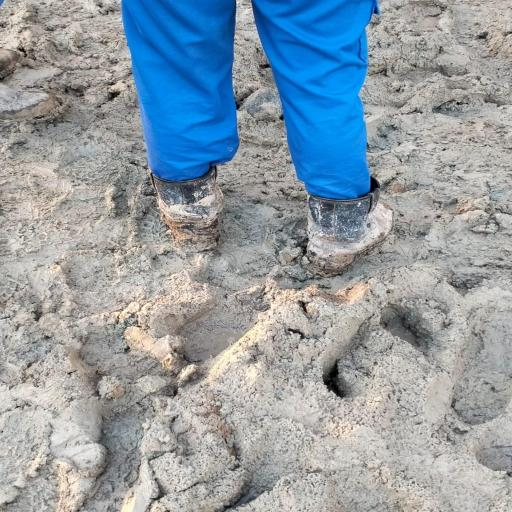safety_shoe: (297, 194, 402, 266), (155, 169, 227, 252)
